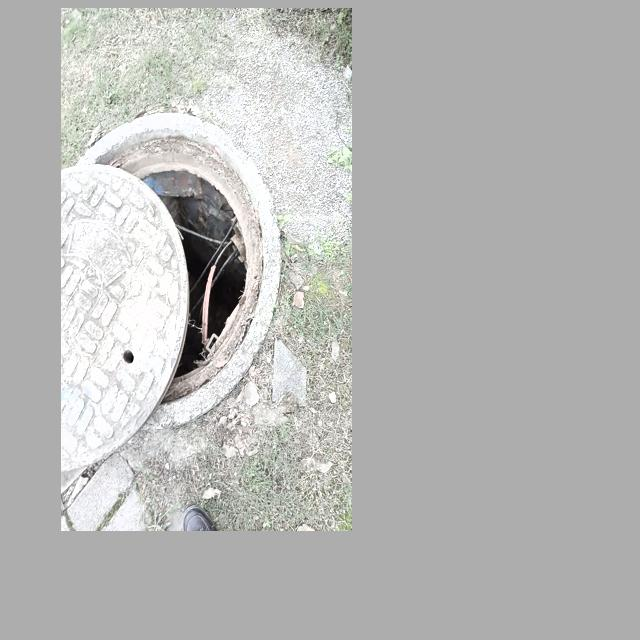uncovered: (61, 110, 284, 472)
